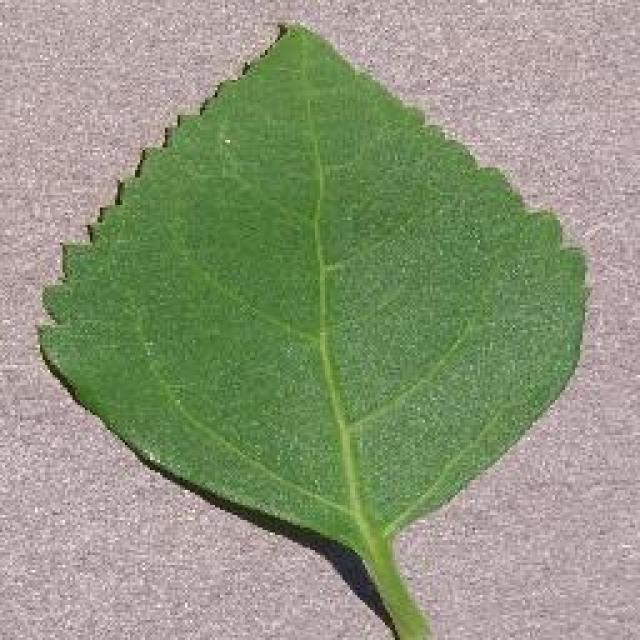Cherry___healthy: (28, 10, 600, 640)
